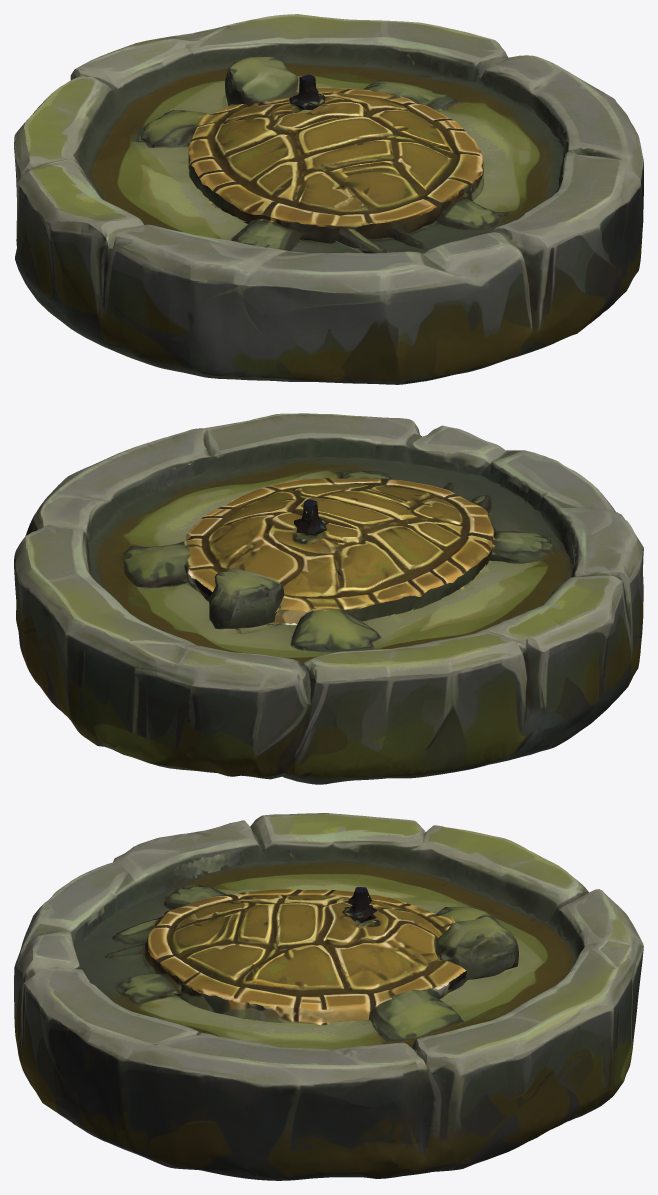
File: item_imprint_iron_turtle.glb
The picture shows the model from 3 angles, top to bottom: view 1: azimuth 30°, elevation 25°; view 2: azimuth 150°, elevation 25°; view 3: azimuth 270°, elevation 25°; orthographic projection.
Visible parts, largest first — view 1: item_imprint_iron_turtle; view 2: item_imprint_iron_turtle; view 3: item_imprint_iron_turtle.
Part boxes in pixels (x1,y1,x2,y2): item_imprint_iron_turtle: (14,14,643,384); item_imprint_iron_turtle: (14,413,643,784); item_imprint_iron_turtle: (14,813,643,1180).
Size of the model in its own units: 0.1 by 0.0304 by 0.1.
Materials: 1 (1 with a texture image).
